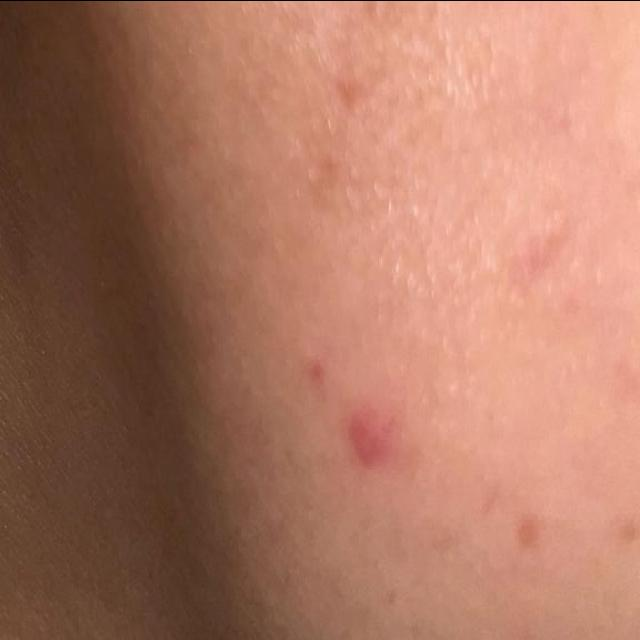papule: (303, 354, 412, 497)
